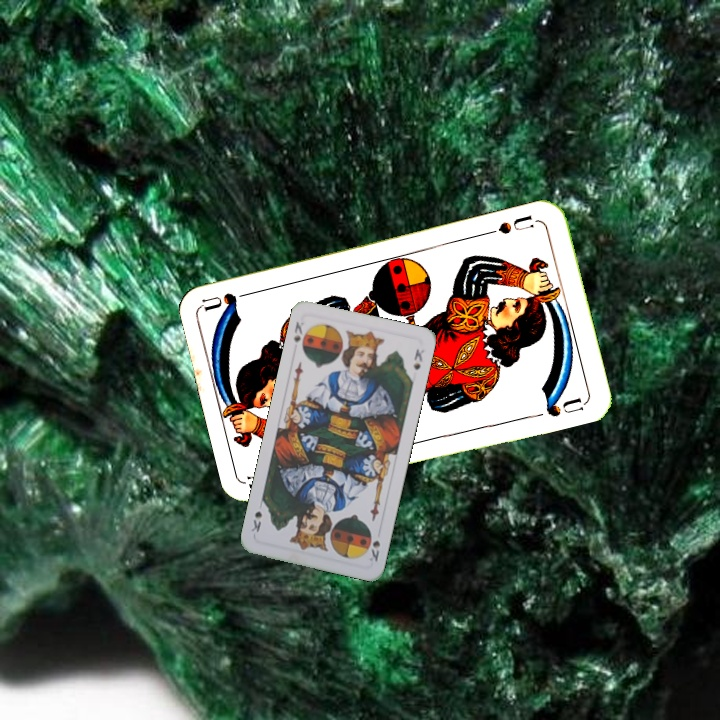SK: (365, 536, 383, 564), (289, 317, 307, 344)
SU: (483, 211, 541, 238)
